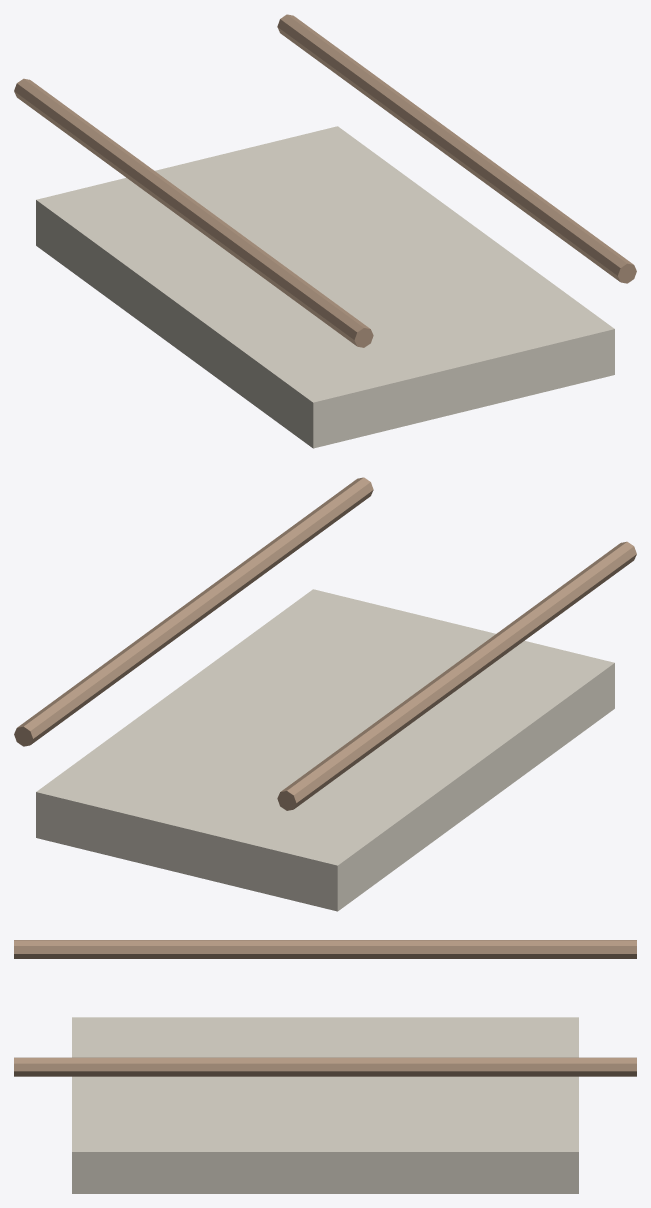
The model's file is crib_basic.glb.
The picture shows the model from 3 angles, top to bottom: view 1: azimuth 30°, elevation 25°; view 2: azimuth 150°, elevation 25°; view 3: azimuth 270°, elevation 25°; orthographic projection. The views are drawn at different scales.
Parts seen in each view (by area): view 1: part_00, part_07, part_05, part_12, part_03, part_01, part_06, part_10, part_02, part_09, part_08, part_11 (+1 smaller); view 2: part_00, part_01, part_07, part_03, part_05, part_10, part_11, part_09, part_06, part_08, part_12, part_02 (+1 smaller); view 3: part_00, part_07, part_01, part_02, part_08, part_03, part_05, part_04, part_09, part_11, part_10, part_06 (+1 smaller).
Part boxes in pixels (x1,y1,x2,y2): part_00: [36, 126, 614, 448]; part_07: [277, 14, 410, 114]; part_05: [205, 218, 338, 322]; part_12: [500, 177, 636, 283]; part_03: [109, 148, 243, 251]; part_01: [14, 78, 142, 183]; part_06: [236, 242, 373, 347]; part_10: [420, 119, 547, 221]; part_02: [62, 114, 190, 211]; part_09: [374, 84, 506, 189]; part_08: [325, 49, 454, 154]; part_11: [470, 153, 601, 248]; part_00: [36, 589, 614, 911]; part_01: [277, 704, 414, 810]; part_07: [14, 643, 151, 746]; part_03: [375, 634, 501, 738]; part_05: [471, 565, 605, 669]; part_10: [163, 535, 293, 640]; part_11: [207, 500, 341, 603]; part_09: [118, 570, 246, 662]; part_06: [510, 541, 636, 646]; part_08: [65, 605, 195, 706]; part_12: [250, 477, 373, 581]; part_02: [329, 669, 455, 773]; part_00: [72, 1017, 578, 1193]; part_07: [419, 1057, 636, 1076]; part_01: [419, 940, 636, 958]; part_02: [332, 940, 549, 958]; part_08: [332, 1057, 549, 1076]; part_03: [245, 940, 462, 958]; part_05: [72, 940, 288, 958]; part_04: [159, 940, 376, 958]; part_09: [245, 1057, 462, 1076]; part_11: [72, 1057, 289, 1076]; part_10: [159, 1057, 375, 1076]; part_06: [14, 940, 231, 958].
Bounding box in the file's own units: 1.1 × 0.485 × 2.15.
